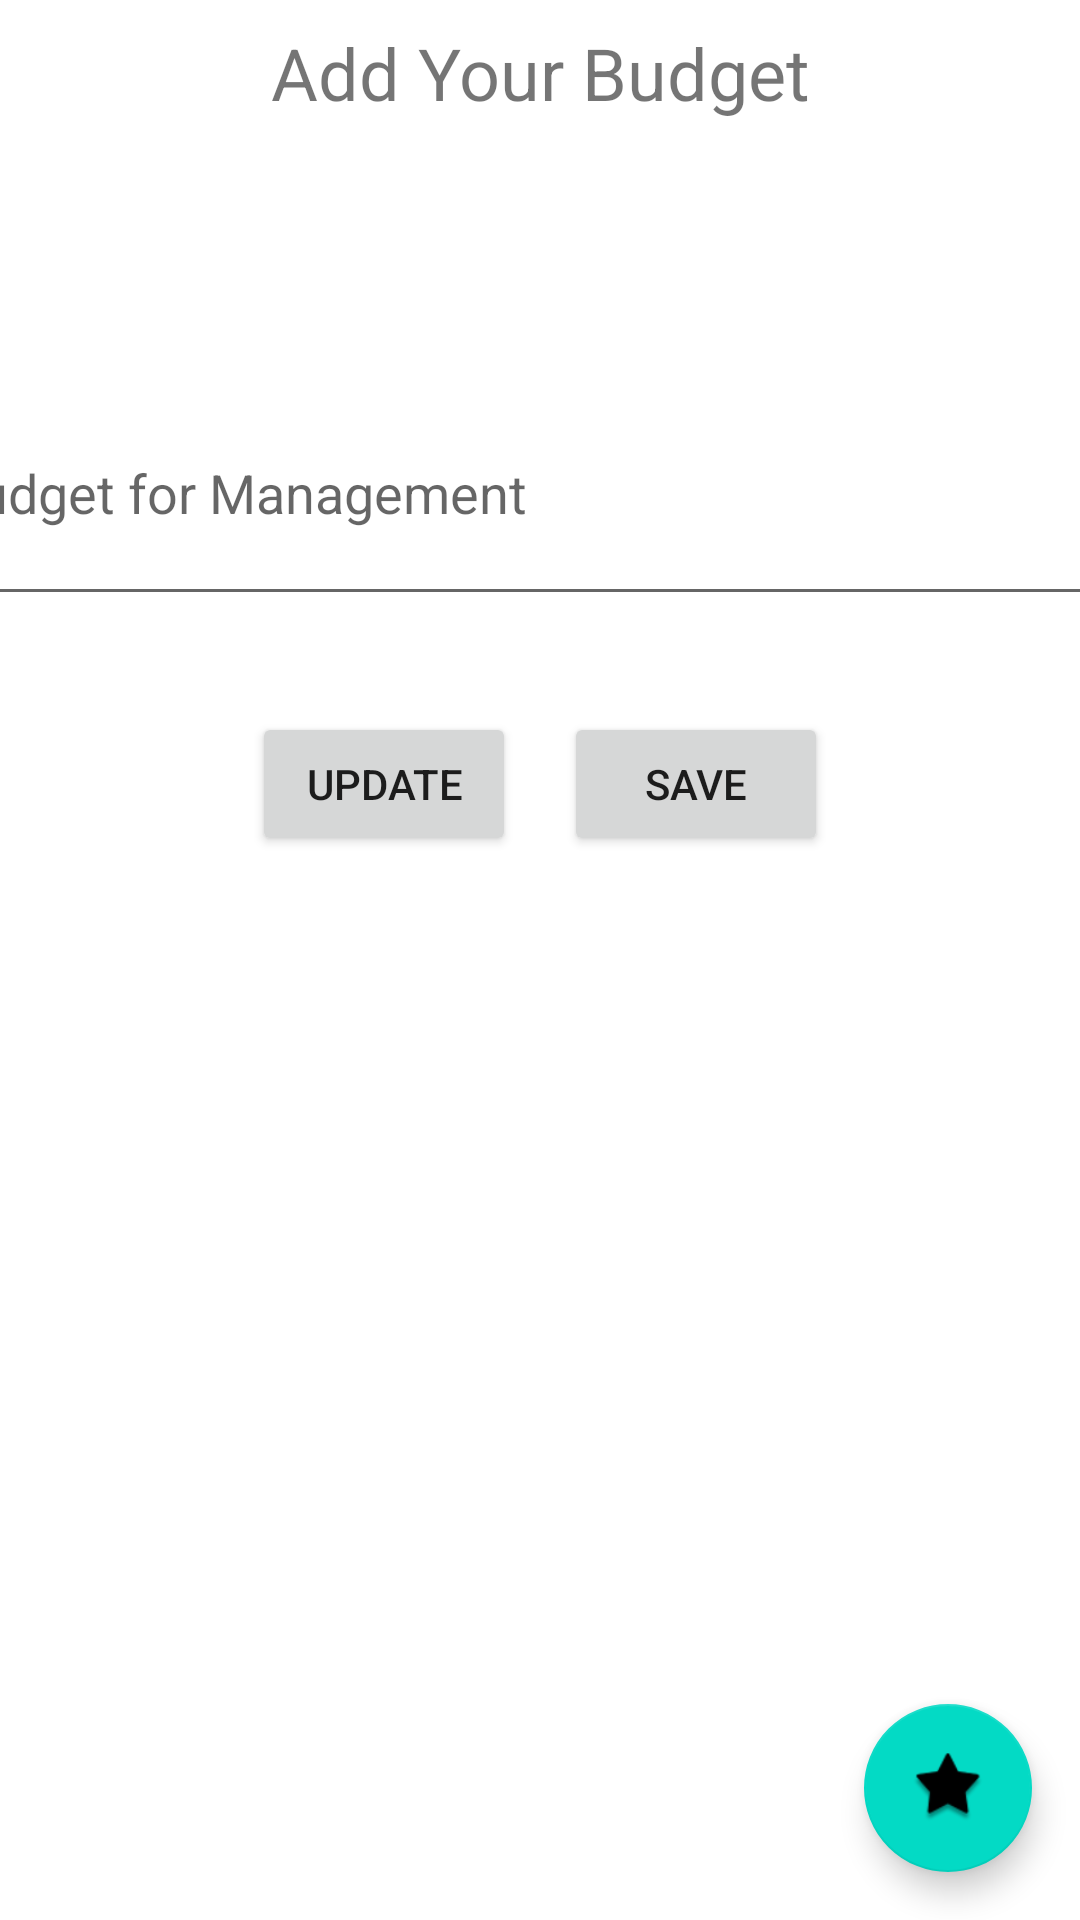

Point at icon controls on the screen. Image size 1080*1920, points as point (x, y).
star on: point (948, 1788)
